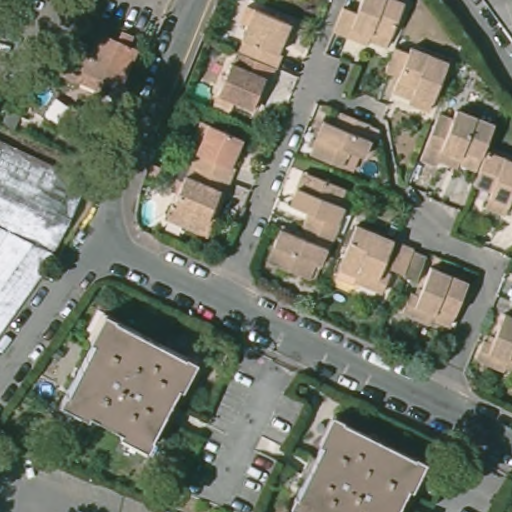pool: (136, 199, 163, 229), (187, 80, 218, 101), (35, 86, 55, 110), (37, 380, 59, 398)
